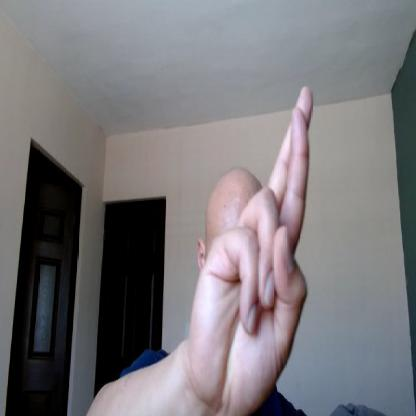R: (191, 86, 316, 416)
